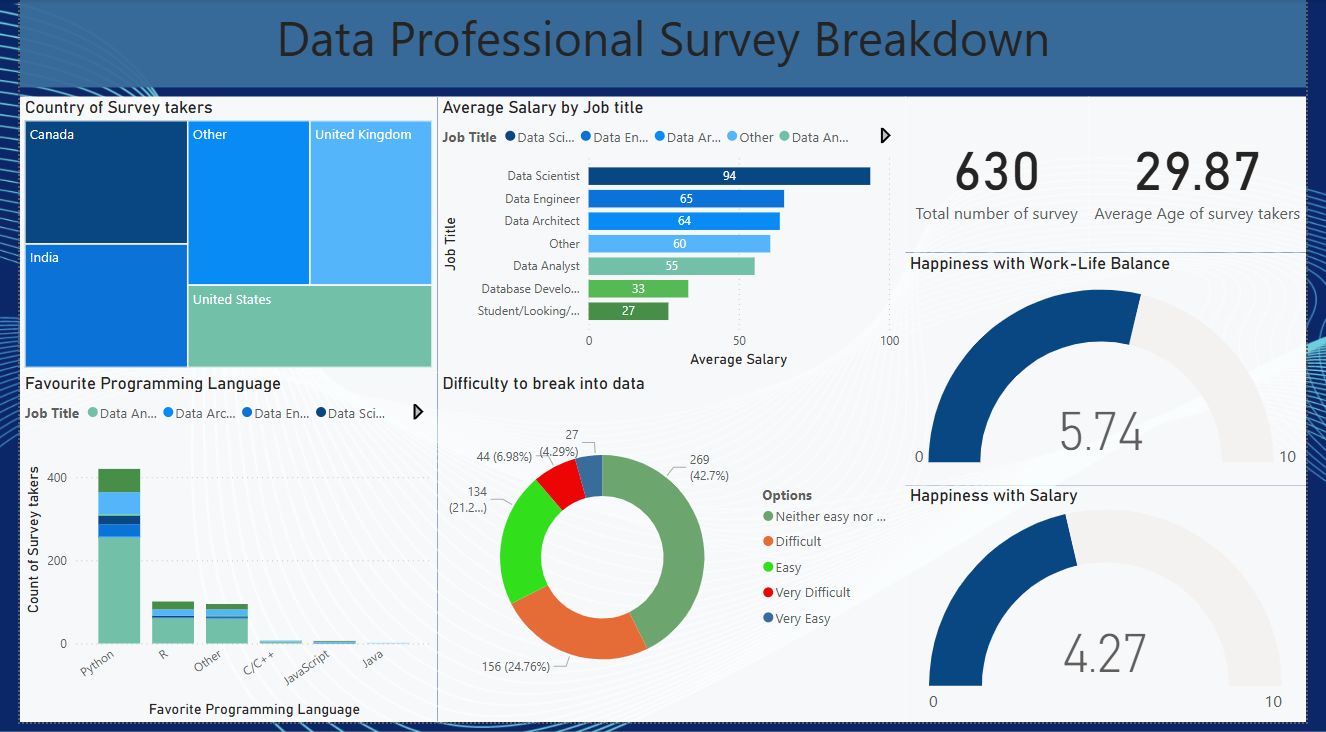

This screenshot's page, from the dashboard's own definition file:
{"tool":"powerbi","page":{"name":"Page 1","canvas":[1280,720],"ordinal":0},"visuals":[{"type":"textbox","box":[0,0,1280.3,87.8],"z":0},{"type":"card","fields":{"Values":["CountNonNull(Data Professional Survey.Unique ID)"]},"box":[880.7,97,182.9,155.5],"z":1000},{"type":"card","fields":{"Values":["Avg(Data Professional Survey.Q10 - Current Age)"]},"box":[1063.6,97,216.4,155.5],"z":2000},{"type":"barChart","title":"Average Salary by Job title","fields":{"Category":["Data Professional Survey.Q1 - Which Title Best Fits your Current Role?.1"],"Y":["Avg(Data Professional Survey.Average Salary)"],"Series":["Data Professional Survey.Q1 - Which Title Best Fits your Current Role?.1"]},"box":[415.5,97,465.2,274.9],"z":3000},{"type":"columnChart","title":"Favourite Programming Language","fields":{"Category":["Data Professional Survey.Q5 - Favorite Programming Language.1"],"Y":["CountNonNull(Data Professional Survey.Unique ID)"],"Series":["Data Professional Survey.Q1 - Which Title Best Fits your Current Role?.1"]},"box":[0,371.9,415.5,348.3],"z":4000},{"type":"treemap","title":"Country of Survey takers","fields":{"Group":["Data Professional Survey.Q11 - Which Country do you live in?.1"],"Values":["Count(Data Professional Survey.Q11 - Which Country do you live in?.1)"]},"box":[0,97,415.5,274.9],"z":5000},{"type":"gauge","title":"Happiness with Work-Life Balance","fields":{"Y":["Avg(Data Professional Survey.Q6 - How Happy are you in your Current Position with the following? (Work/Life Balance))"],"MinValue":["Min(Data Professional Survey.Q6 - How Happy are you in your Current Position with the following? (Work/Life Balance))1"],"MaxValue":["Max(Data Professional Survey.Q6 - How Happy are you in your Current Position with the following? (Upward Mobility))"]},"box":[880.7,252.5,399.3,231.4],"z":6000},{"type":"gauge","title":"Happiness with Salary","fields":{"Y":["Avg(Data Professional Survey.Q6 - How Happy are you in your Current Position with the following? (Salary))"],"MinValue":["Min(Data Professional Survey.Q6 - How Happy are you in your Current Position with the following? (Salary))"],"MaxValue":["Max(Data Professional Survey.Q6 - How Happy are you in your Current Position with the following? (Salary))"]},"box":[880.7,483.9,399.3,236.4],"z":7000},{"type":"donutChart","title":"Difficulty to break into data","fields":{"Category":["Data Professional Survey.Q7 - How difficult was it for you to break into Data?"],"Y":["CountNonNull(Data Professional Survey.Q7 - How difficult was it for you to break into Data?)"]},"box":[415.5,371.9,465.2,348.3],"z":8000}]}

Visuals, with their boxes in screenshot pixels (x1, y1, x2, y2), scaled from the page's 1280x720 canvas onto the 1326x732 screenshot:
textbox: 0:0:1325:89
card - CountNonNull(Data Professional Survey.Unique ID): 912:99:1102:257
card - Avg(Data Professional Survey.Q10 - Current Age): 1102:99:1325:257
"Average Salary by Job title" barChart: 430:99:912:378
"Favourite Programming Language" columnChart: 0:378:430:731
"Country of Survey takers" treemap: 0:99:430:378
"Happiness with Work-Life Balance" gauge: 912:257:1325:492
"Happiness with Salary" gauge: 912:492:1325:731
"Difficulty to break into data" donutChart: 430:378:912:731
